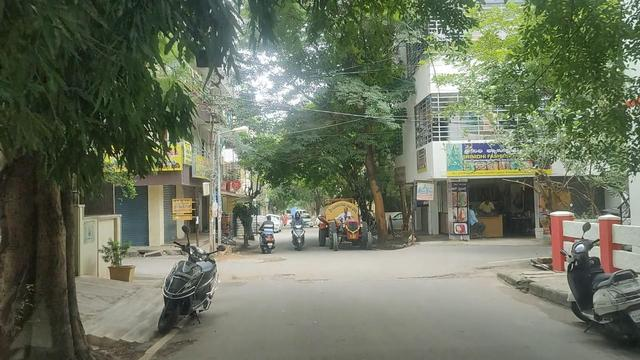HMV: (308, 192, 376, 249)
LMV: (554, 221, 640, 345), (156, 225, 216, 339), (284, 212, 314, 255), (253, 212, 280, 256)
RoadDamages: (244, 266, 332, 292), (381, 260, 478, 277)
